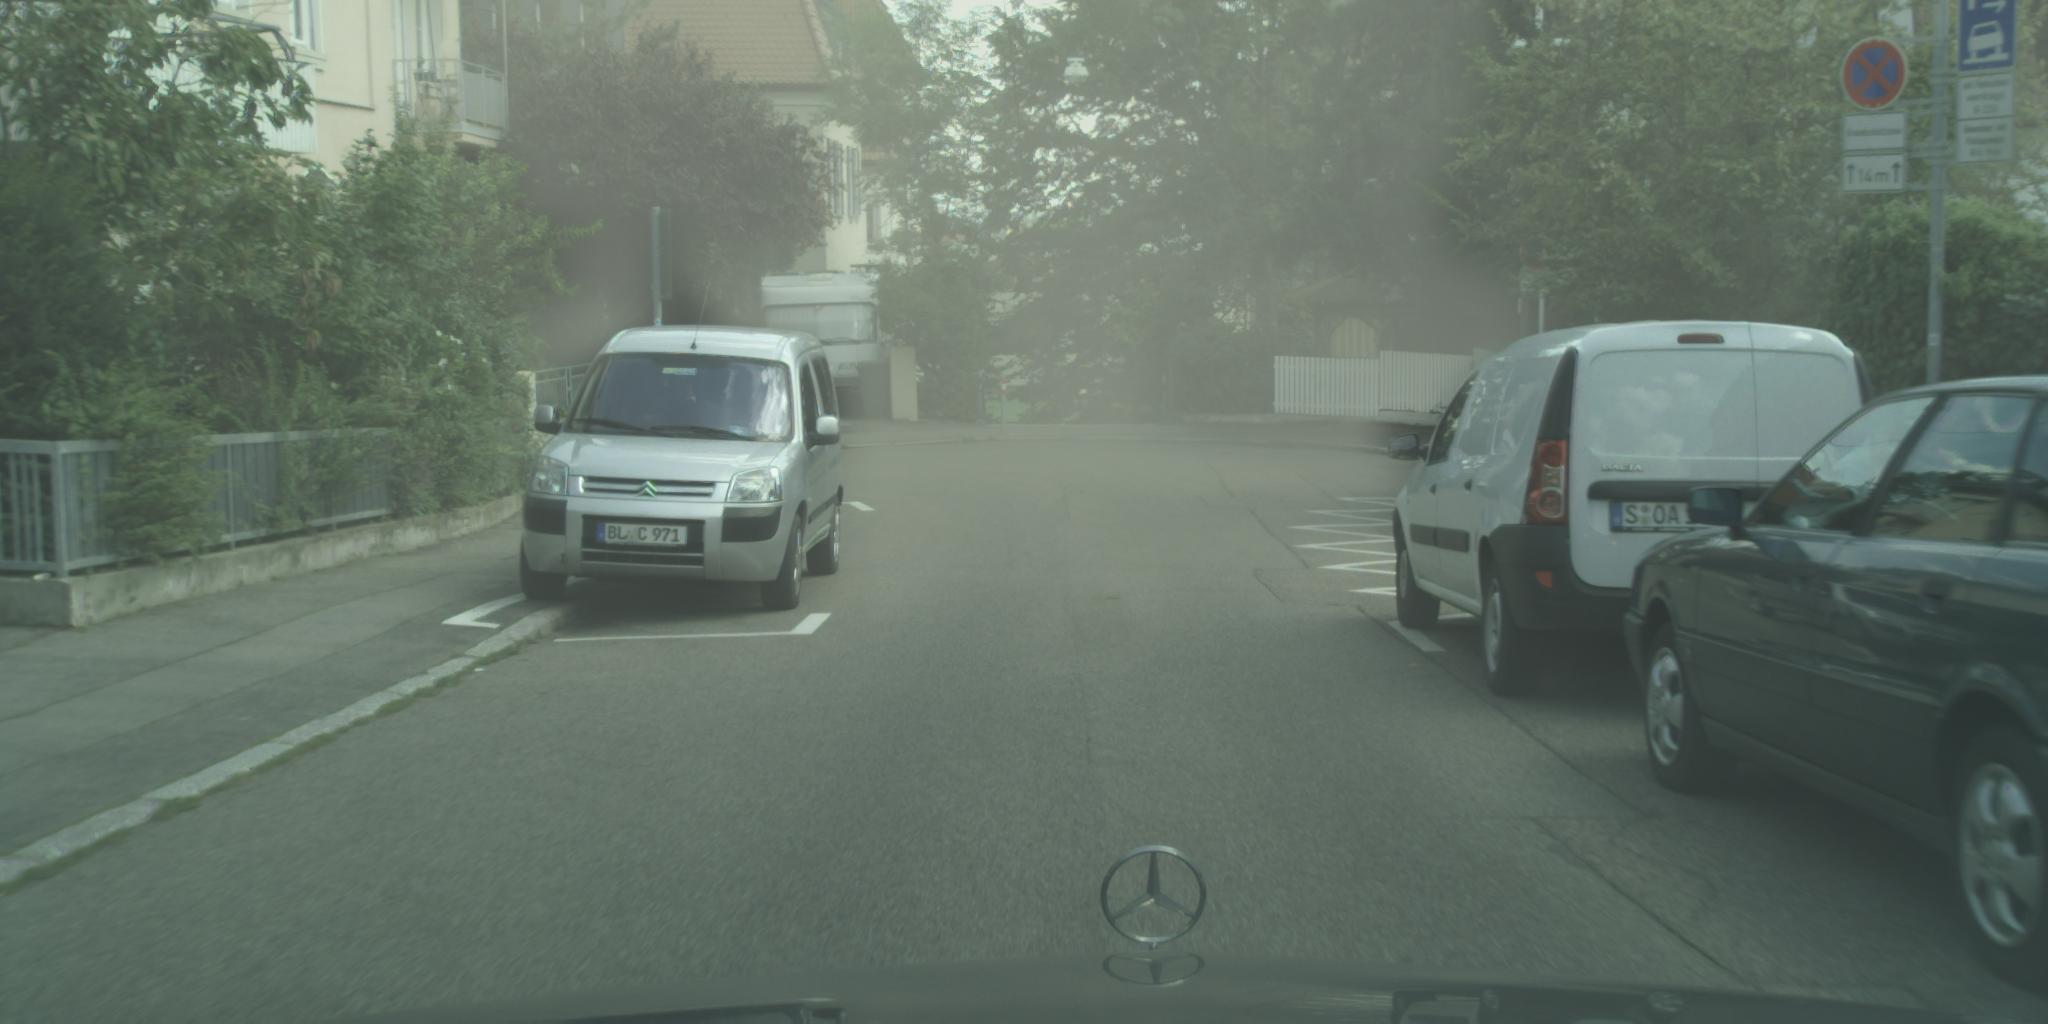car: (1621, 377, 2045, 998), (1383, 323, 1883, 697), (522, 324, 846, 611)
